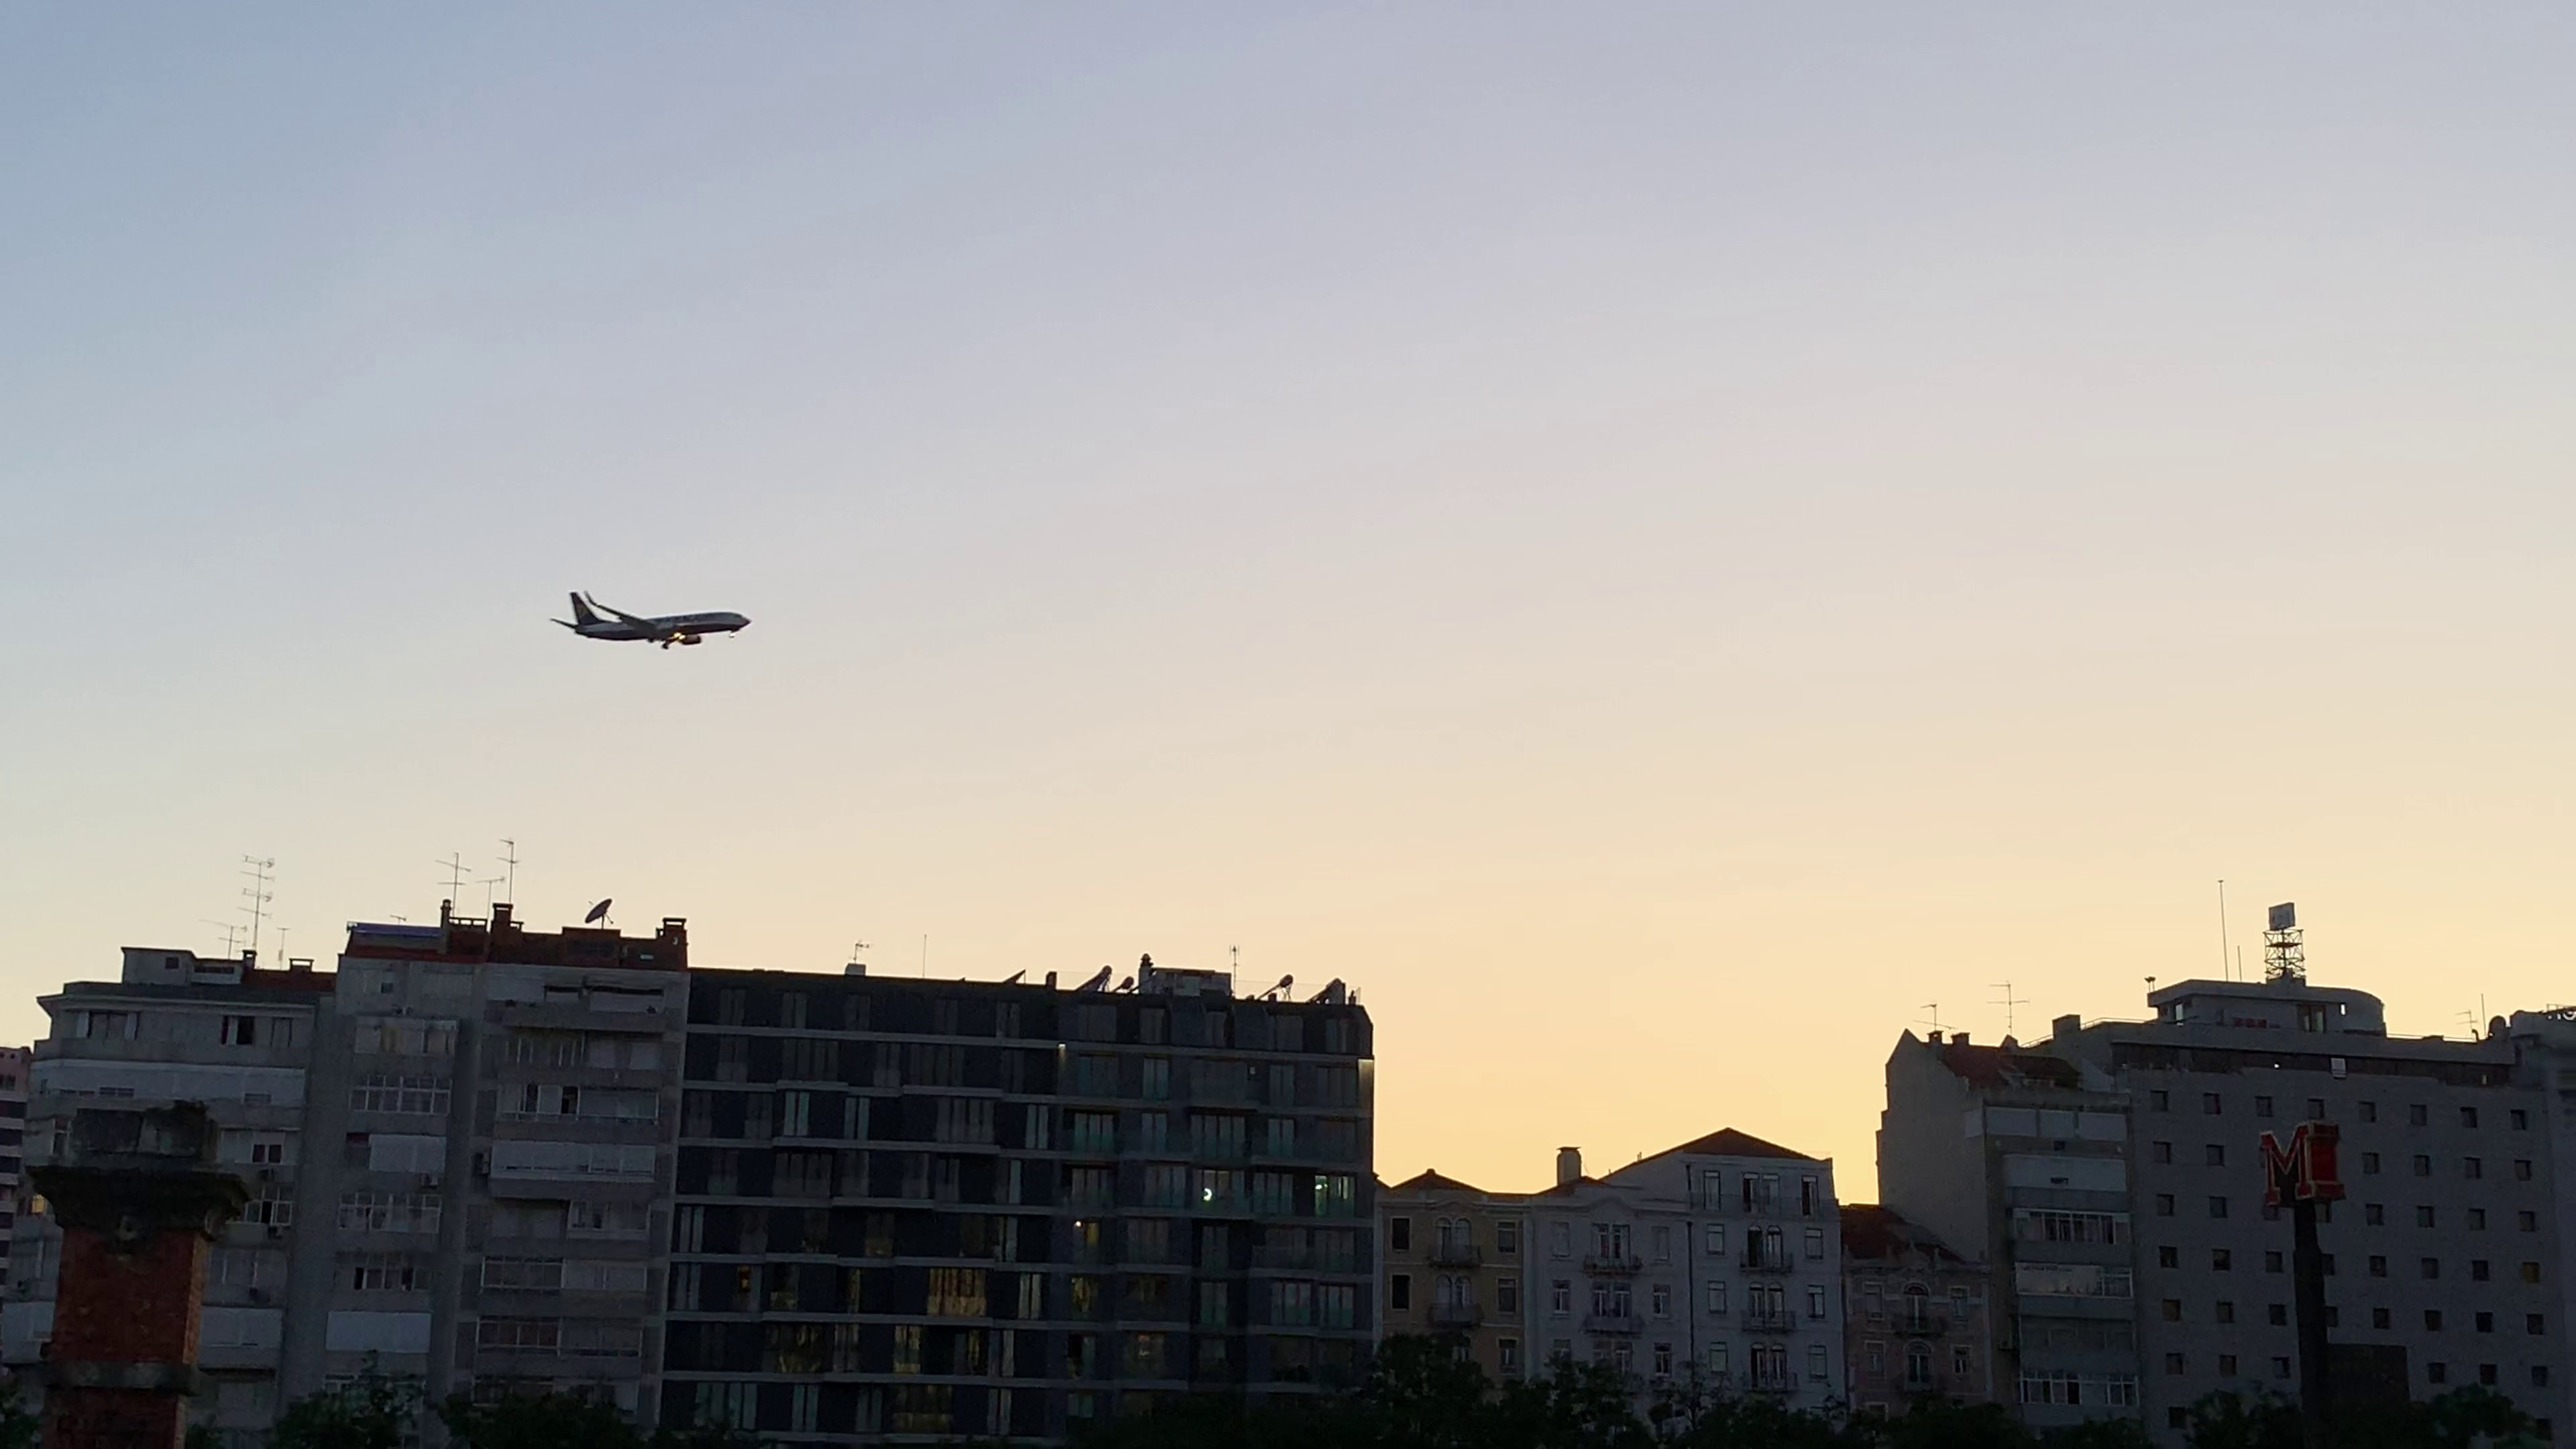plane: (550, 587, 750, 649)
